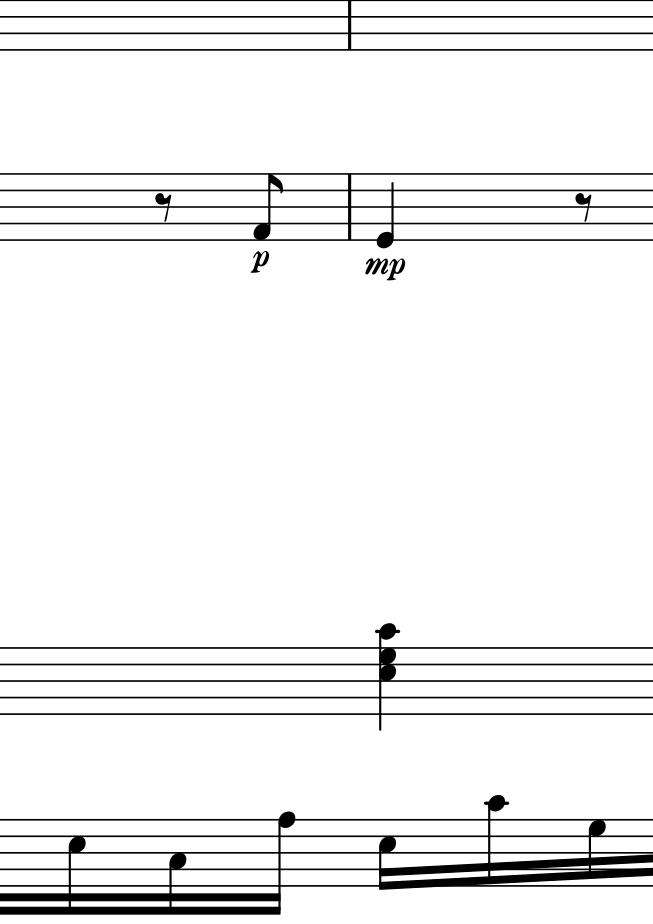16_10: (483, 795, 509, 890)
16_3: (377, 817, 397, 893)
16_7: (586, 815, 607, 890)
16_8: (265, 811, 295, 916)
4_0: (374, 172, 397, 250)
4_th: (374, 621, 400, 732)
8_1: (250, 171, 284, 243)
8_3: (168, 817, 190, 917)
8_5: (67, 819, 88, 916)
Rests8: (152, 190, 176, 224), (573, 190, 596, 223)
Single_barline: (343, 179, 357, 239), (342, 1, 358, 50)
mp: (361, 255, 409, 285)
p: (248, 249, 271, 278)
